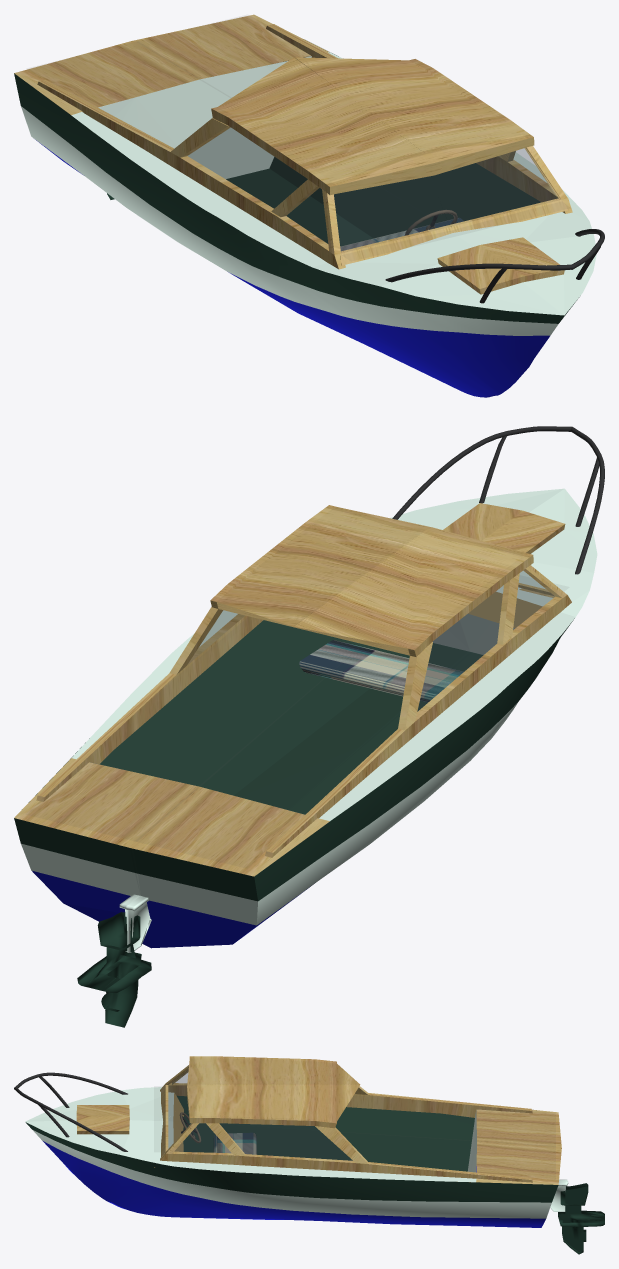
Rendered from SeaAngler.obj.
The picture shows the model from 3 angles, top to bottom: view 1: azimuth 30°, elevation 25°; view 2: azimuth 150°, elevation 25°; view 3: azimuth 270°, elevation 25°; orthographic projection. The views are drawn at different scales.
Visible parts, largest first — view 1: Cabin_Plane.001_Wood_woodhighquality1.jpg, HullTop_SeaAngler.001_WhiteBase, Cabin_Plane.001_Windows, HullTop_SeaAngler.001_Wood_woodhighquality1.jpg, Hull_SeaAngler_Material, HullTop_SeaAngler.001_Material, Hull_SeaAngler_WhiteBase, Hull_SeaAngler_Blue, BowRail_Mesh_Metal, Cube_Cube_Fabric; view 2: Cabin_Plane.001_Wood_woodhighquality1.jpg, HullTop_SeaAngler.001_Material, HullTop_SeaAngler.001_WhiteBase, HullTop_SeaAngler.001_Wood_woodhighquality1.jpg, Hull_SeaAngler_Material, Cabin_Plane.001_Windows, Hull_SeaAngler_WhiteBase, HullTop_SeaAngler.001_Blue, Cube_Cube_Fabric, Engine_Plane.002_Material, BowRail_Mesh_Metal, HullTop_SeaAngler.001_Wood; view 3: Cabin_Plane.001_Wood_woodhighquality1.jpg, HullTop_SeaAngler.001_Material, Hull_SeaAngler_Material, HullTop_SeaAngler.001_WhiteBase, Hull_SeaAngler_Blue, HullTop_SeaAngler.001_Wood_woodhighquality1.jpg, Hull_SeaAngler_WhiteBase, Cabin_Plane.001_Windows, Engine_Plane.002_Material, BowRail_Mesh_Metal, Cube_Cube_Fabric, HullTop_SeaAngler.001_Wood.
Boxes of the visible parts, x1,y1,x2,y2 form: Cabin_Plane.001_Wood_woodhighquality1.jpg: (37, 24, 572, 269); HullTop_SeaAngler.001_WhiteBase: (71, 52, 596, 315); Cabin_Plane.001_Windows: (188, 128, 558, 250); HullTop_SeaAngler.001_Wood_woodhighquality1.jpg: (14, 14, 564, 294); Hull_SeaAngler_Material: (14, 53, 579, 323); HullTop_SeaAngler.001_Material: (226, 157, 540, 246); Hull_SeaAngler_WhiteBase: (21, 63, 558, 335); Hull_SeaAngler_Blue: (36, 140, 549, 397); BowRail_Mesh_Metal: (385, 229, 604, 303); Cube_Cube_Fabric: (340, 218, 463, 251); Cabin_Plane.001_Wood_woodhighquality1.jpg: (36, 505, 571, 857); HullTop_SeaAngler.001_Material: (14, 620, 483, 901); HullTop_SeaAngler.001_WhiteBase: (21, 488, 597, 925); HullTop_SeaAngler.001_Wood_woodhighquality1.jpg: (14, 503, 565, 876); Hull_SeaAngler_Material: (28, 618, 574, 901); Cabin_Plane.001_Windows: (187, 571, 554, 711); Hull_SeaAngler_WhiteBase: (119, 702, 517, 952); HullTop_SeaAngler.001_Blue: (32, 871, 256, 948); Cube_Cube_Fabric: (299, 640, 463, 702); Engine_Plane.002_Material: (77, 912, 151, 1027); BowRail_Mesh_Metal: (392, 426, 604, 574); HullTop_SeaAngler.001_Wood: (468, 592, 542, 627); Cabin_Plane.001_Wood_woodhighquality1.jpg: (154, 1056, 532, 1184); HullTop_SeaAngler.001_Material: (177, 1095, 474, 1171); Hull_SeaAngler_Material: (25, 1122, 558, 1202); HullTop_SeaAngler.001_WhiteBase: (25, 1087, 476, 1182); Hull_SeaAngler_Blue: (43, 1141, 545, 1227); HullTop_SeaAngler.001_Wood_woodhighquality1.jpg: (76, 1105, 561, 1184); Hull_SeaAngler_WhiteBase: (33, 1130, 568, 1218); Cabin_Plane.001_Windows: (168, 1070, 352, 1160); Engine_Plane.002_Material: (558, 1183, 604, 1254); BowRail_Mesh_Metal: (14, 1072, 127, 1151); Cube_Cube_Fabric: (213, 1132, 256, 1154); HullTop_SeaAngler.001_Wood: (173, 1093, 183, 1151).
Bounding box in the file's own units: 2.02 × 1.79 × 5.72.
